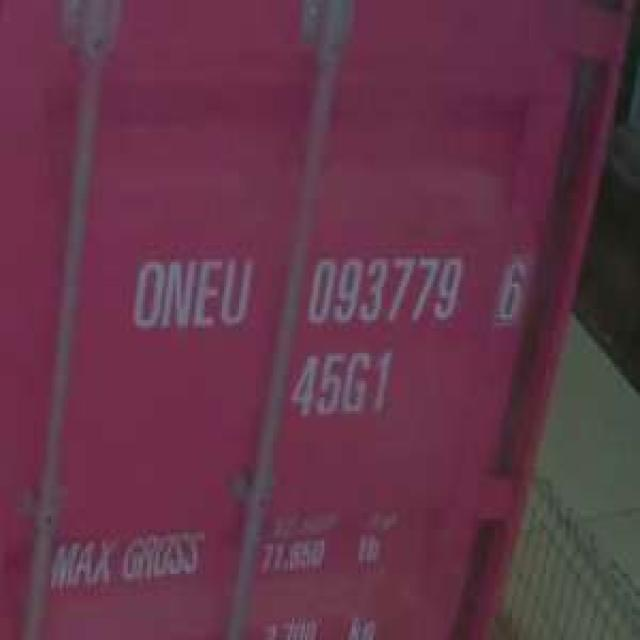dv: (493, 251, 531, 323)
owner: (124, 245, 256, 334)
serial: (301, 248, 465, 331)
size: (284, 345, 397, 422)
